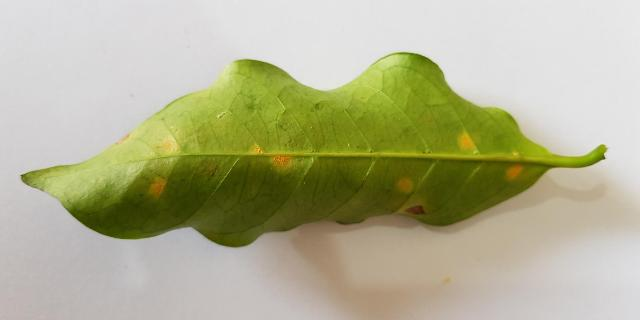miner: (268, 154, 293, 170), (149, 175, 166, 197), (157, 136, 178, 152), (400, 205, 425, 215), (459, 134, 474, 150), (507, 165, 522, 179), (398, 180, 411, 191), (252, 146, 264, 155), (340, 223, 341, 224)
